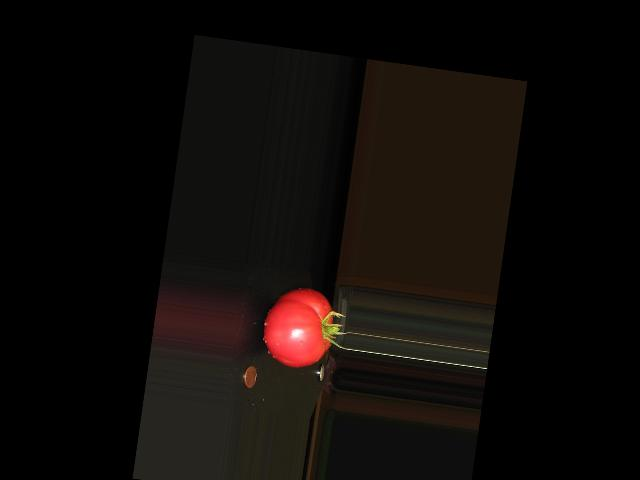tomato: (258, 282, 338, 371)
